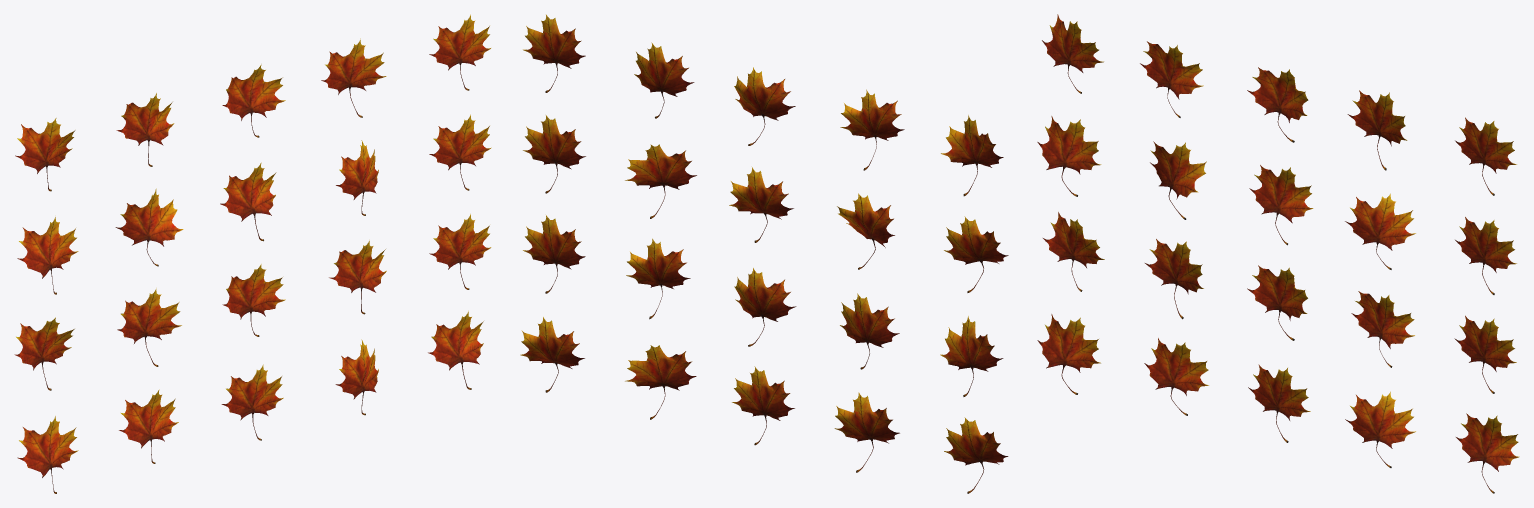
File: falling_leaves.obj
The picture shows the model from 3 angles, left to right: view 1: azimuth 30°, elevation 25°; view 2: azimuth 150°, elevation 25°; view 3: azimuth 330°, elevation 25°; orthographic projection.
Parts seen in each view (by area): view 1: obj18, obj17, obj3, obj12, obj7, obj14, obj6, obj5, obj2, obj19, obj1, obj10 (+8 smaller); view 2: obj4, obj15, obj13, obj1, obj10, obj20, obj6, obj11, obj2, obj9, obj8, obj12 (+8 smaller); view 3: obj4, obj15, obj17, obj3, obj2, obj5, obj19, obj12, obj9, obj6, obj11, obj1 (+8 smaller).
Boxes of the visible parts, x1,y1,x2,y2 form: obj18: (115, 188, 183, 266); obj17: (17, 217, 78, 294); obj3: (17, 416, 78, 493); obj12: (222, 64, 285, 137); obj7: (117, 288, 181, 366); obj14: (321, 38, 386, 117); obj6: (222, 264, 285, 336); obj5: (428, 311, 483, 389); obj2: (119, 389, 178, 463); obj19: (220, 162, 276, 241); obj1: (221, 364, 283, 440); obj10: (429, 214, 491, 289); obj4: (625, 345, 696, 419); obj15: (625, 144, 696, 218); obj13: (523, 115, 585, 193); obj1: (732, 366, 794, 445); obj10: (523, 215, 585, 293); obj20: (523, 14, 585, 92); obj6: (734, 268, 796, 346); obj11: (840, 89, 904, 170); obj2: (834, 392, 899, 472); obj9: (626, 238, 690, 319); obj8: (940, 316, 1003, 396); obj12: (734, 67, 795, 145); obj4: (1345, 391, 1415, 467); obj15: (1345, 193, 1415, 269); obj17: (1037, 116, 1101, 196); obj3: (1037, 314, 1100, 394); obj2: (1144, 338, 1208, 415); obj5: (1456, 413, 1519, 493); obj19: (1249, 165, 1313, 245); obj12: (1247, 67, 1308, 142); obj9: (1351, 291, 1414, 367); obj6: (1247, 265, 1307, 340); obj11: (1140, 41, 1203, 117); obj1: (1248, 364, 1310, 442).
Size of the model in its own units: 0.302 by 0.2273 by 0.0203.
Materials: 1 (1 with a texture image).
